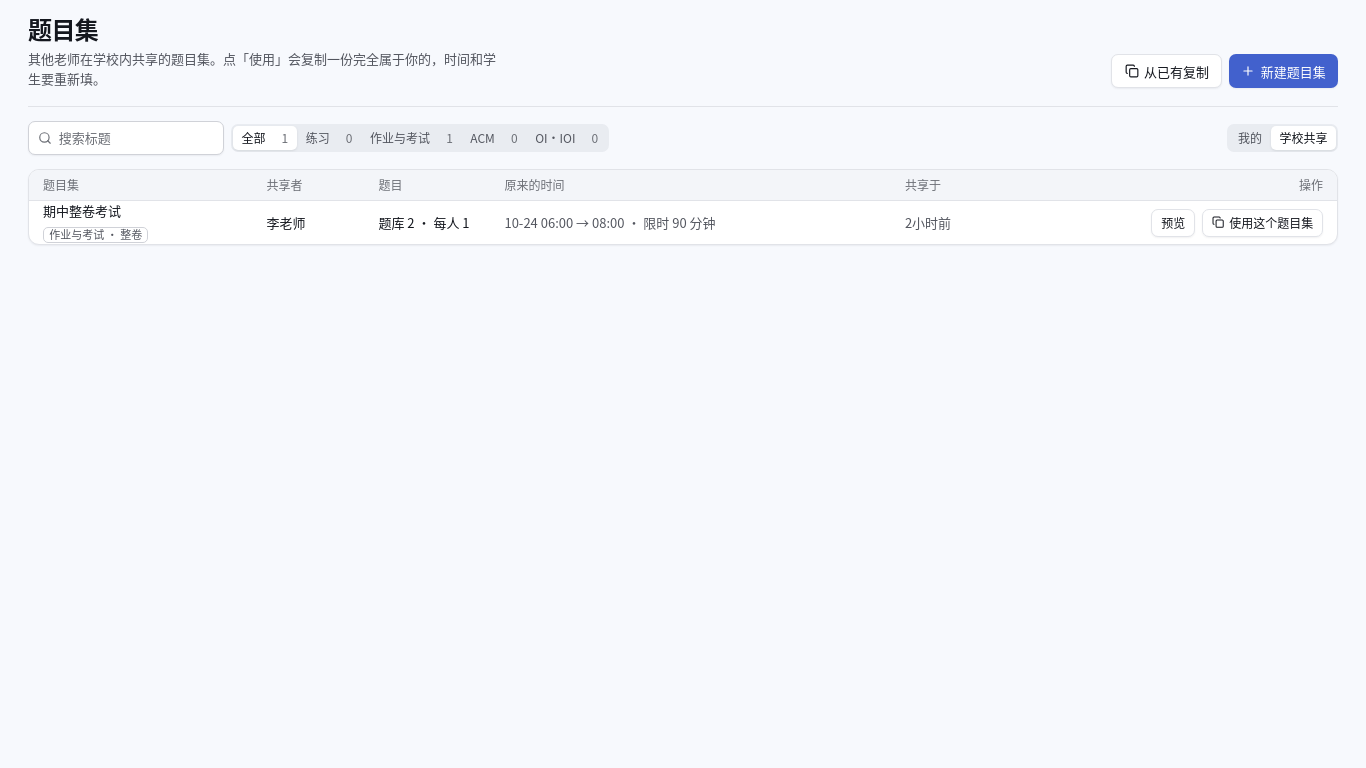
teach list page › shows the draw sentence in the shared exam preview
This screenshot has width=1366, height=768.
expect the text "题库 2 · 每人 1" is shown: met, box x1=378 y1=213 x2=470 y2=232
Click the button "预览".
click(1173, 222)  # box x1=1152 y1=208 x2=1195 y2=236
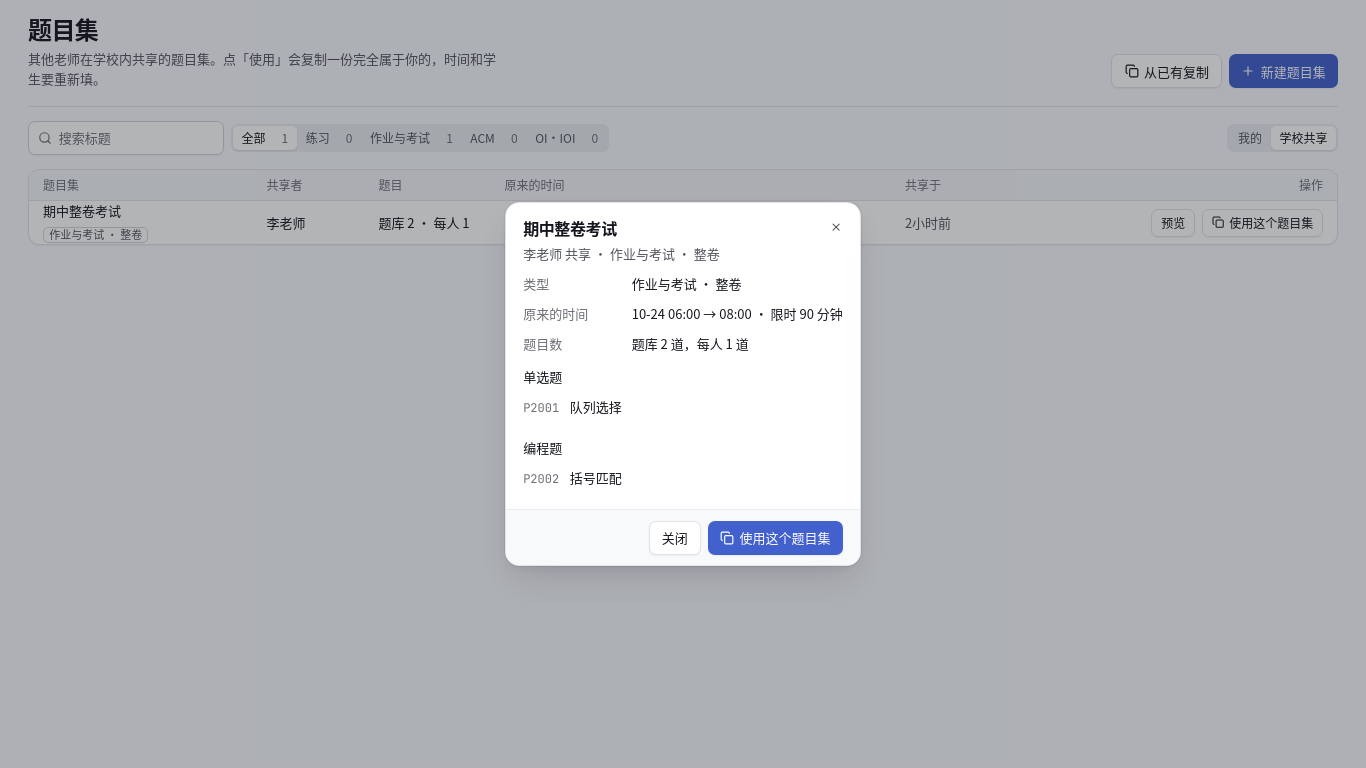
expect the text "题库 2 道，每人 1 道" is shown: met, box x1=632 y1=334 x2=749 y2=353
